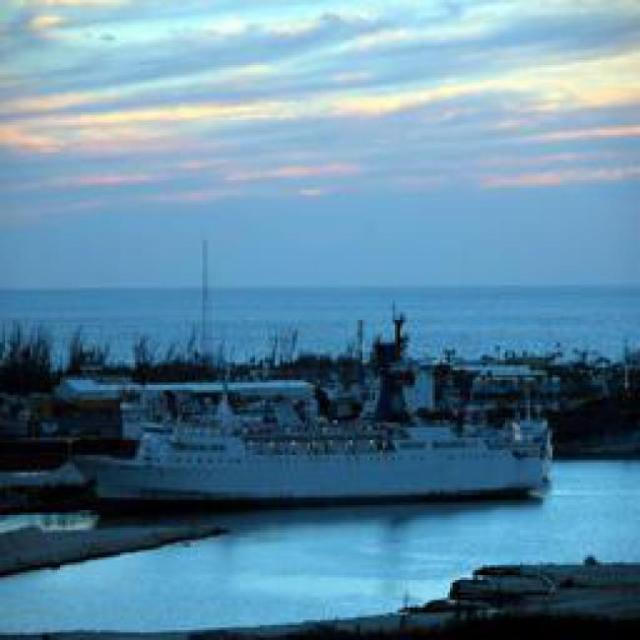boat: (87, 422, 546, 504)
